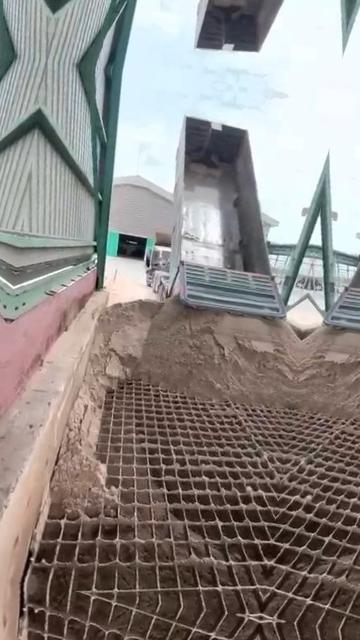sand: (52, 299, 301, 516)
